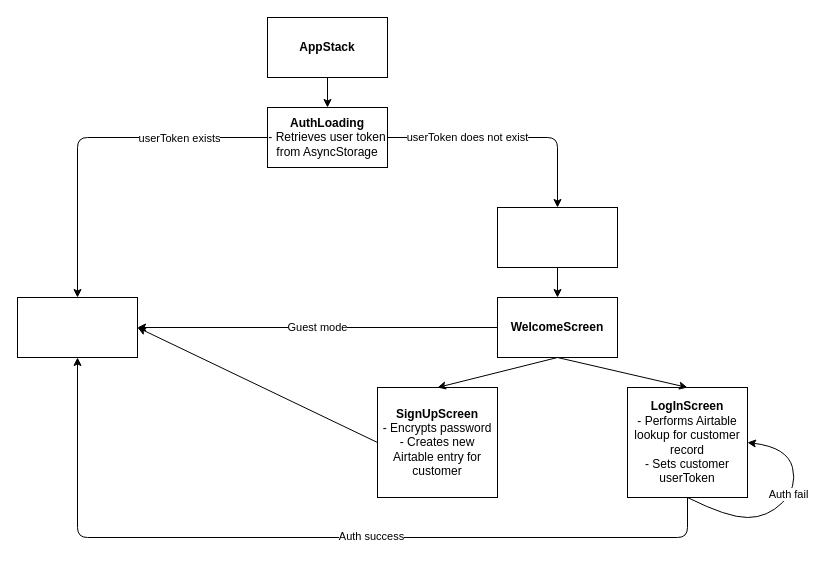
Image size: 826x563. Some labels were removed from this diagram. The shapes that lost their labels are listed below. From the top down, each one's box as (x1, y1, x2, y2) in pixels, then its label:
(496, 206, 618, 268): Auth
(16, 296, 138, 358): DrawerNavigator
